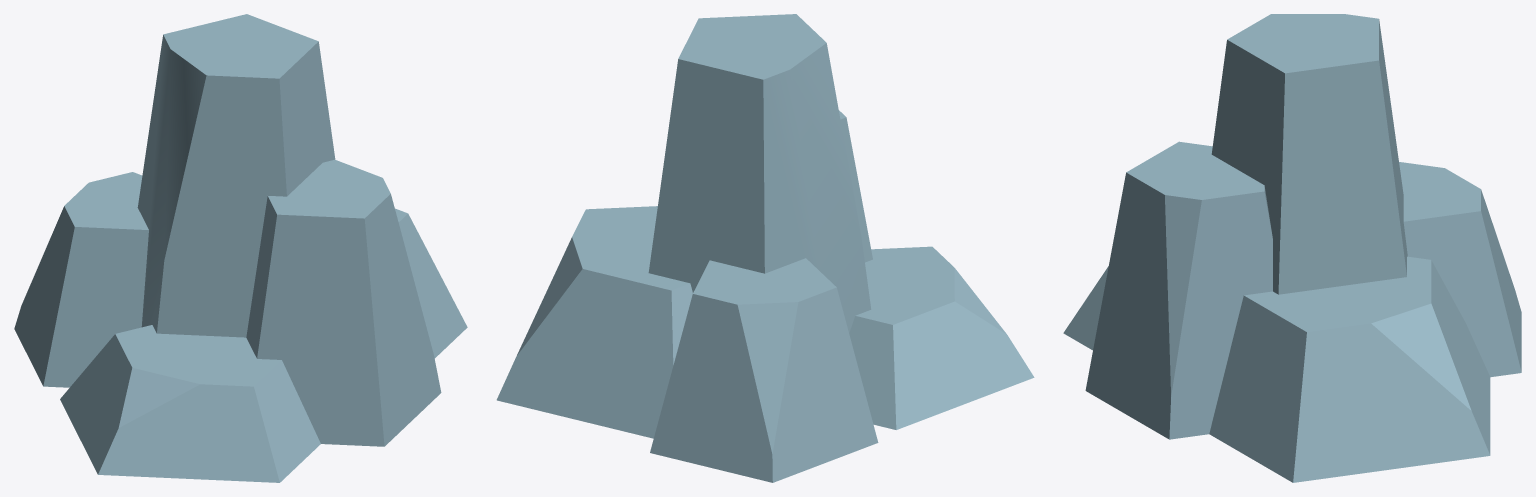
Rendered from rockLarge.obj.
3 renders of one model, left to right at view 1: azimuth 30°, elevation 25°; view 2: azimuth 150°, elevation 25°; view 3: azimuth 270°, elevation 25°, orthographic. The views are drawn at different scales.
Parts seen in each view (by area): view 1: rockLarge; view 2: rockLarge; view 3: rockLarge.
Boxes of the visible parts, x1,y1,x2,y2 form: rockLarge: (14, 14, 467, 482); rockLarge: (496, 14, 1034, 482); rockLarge: (1063, 14, 1521, 482).
Size of the model in its own units: 1.6 by 1.16 by 1.45.
